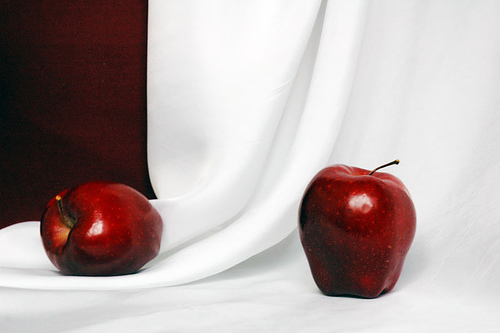apple: (298, 160, 418, 299), (40, 181, 164, 277)
